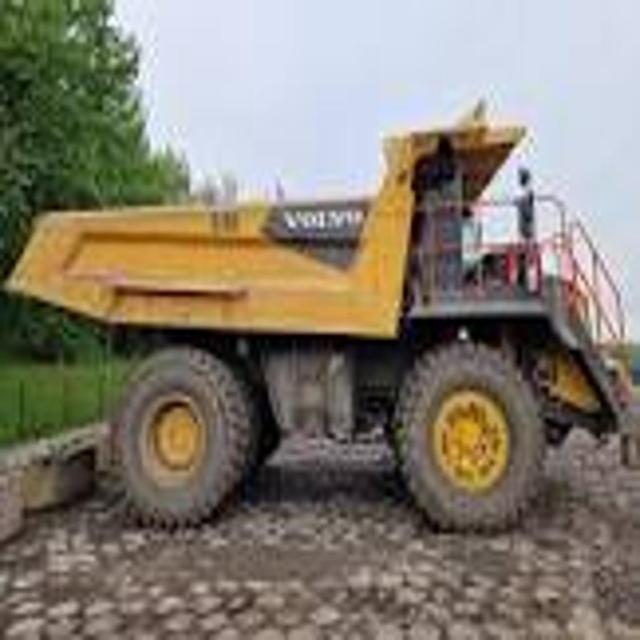dump_truck: (7, 106, 640, 551)
